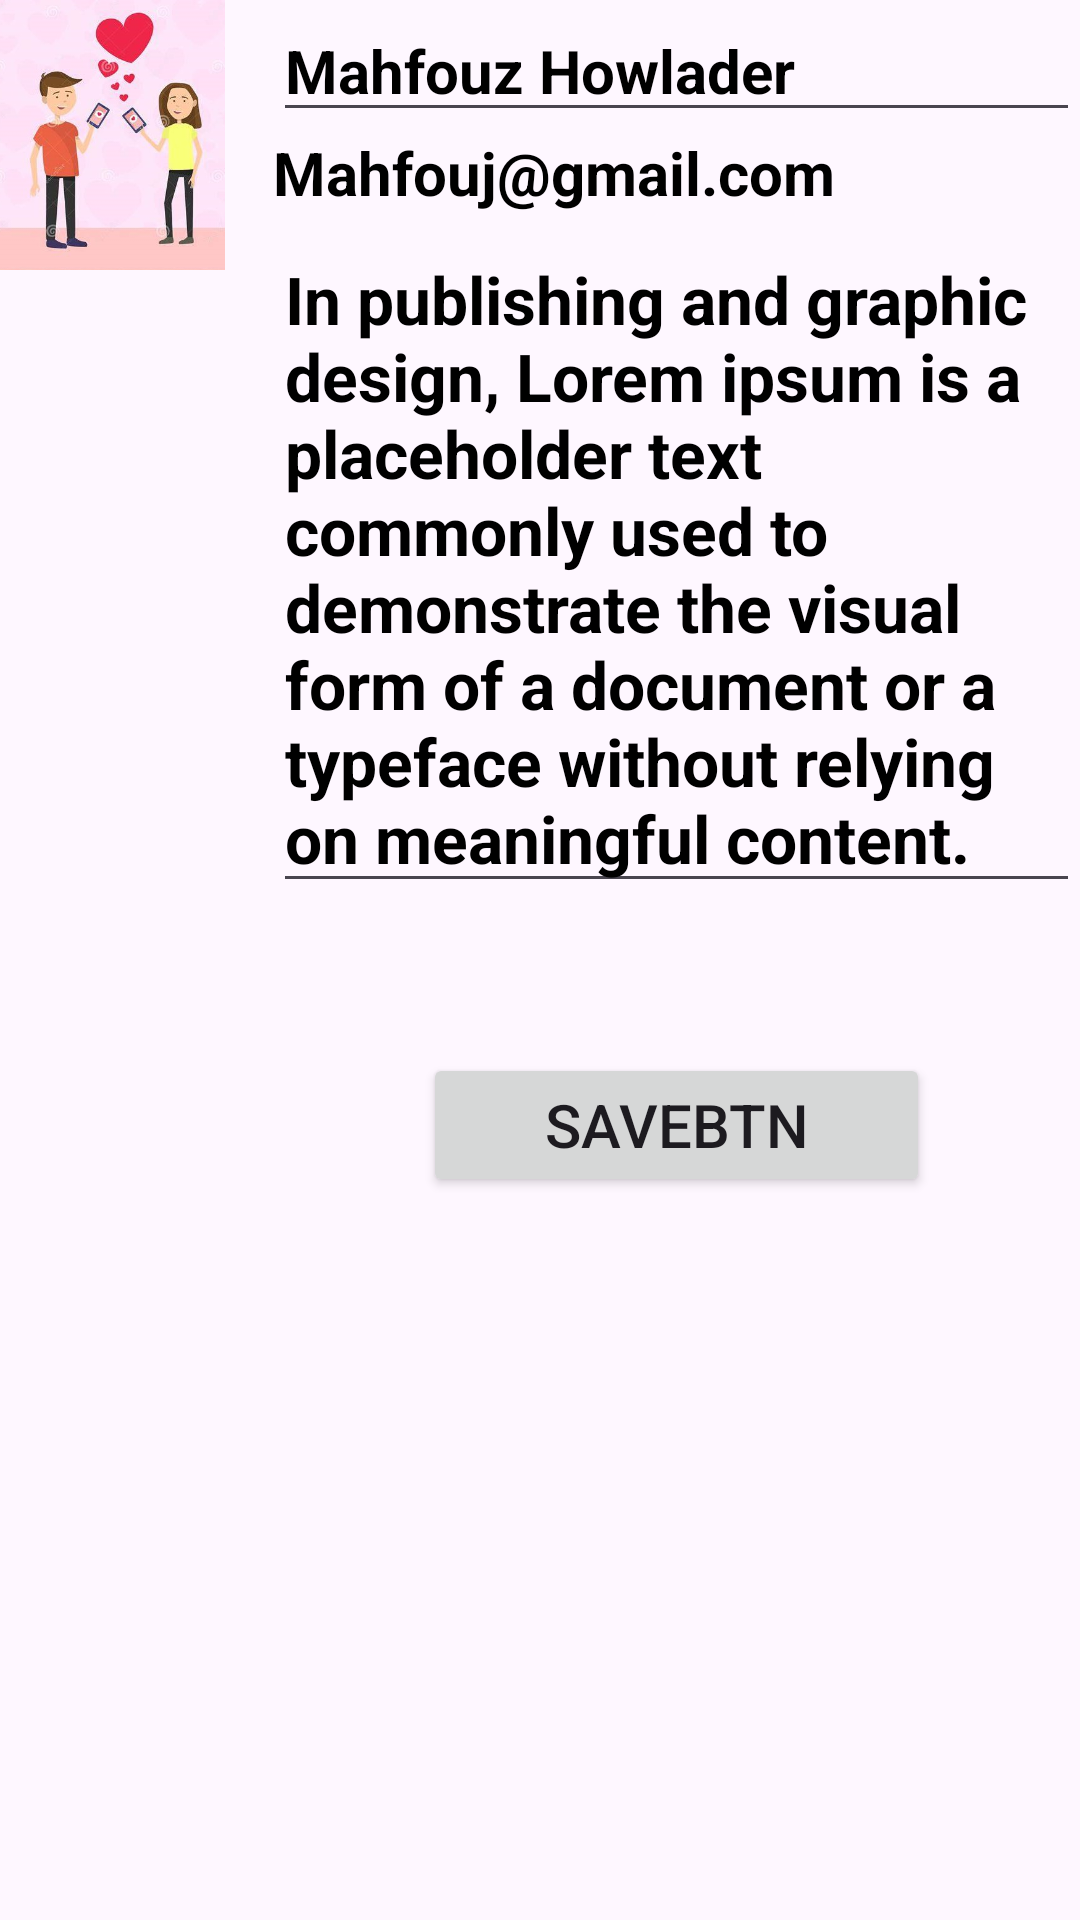

Icon bounding boxes for this 1080px×1920px phone screenshot, format (x1, y1, x2, y2):
dating: (0, 0, 225, 270)
